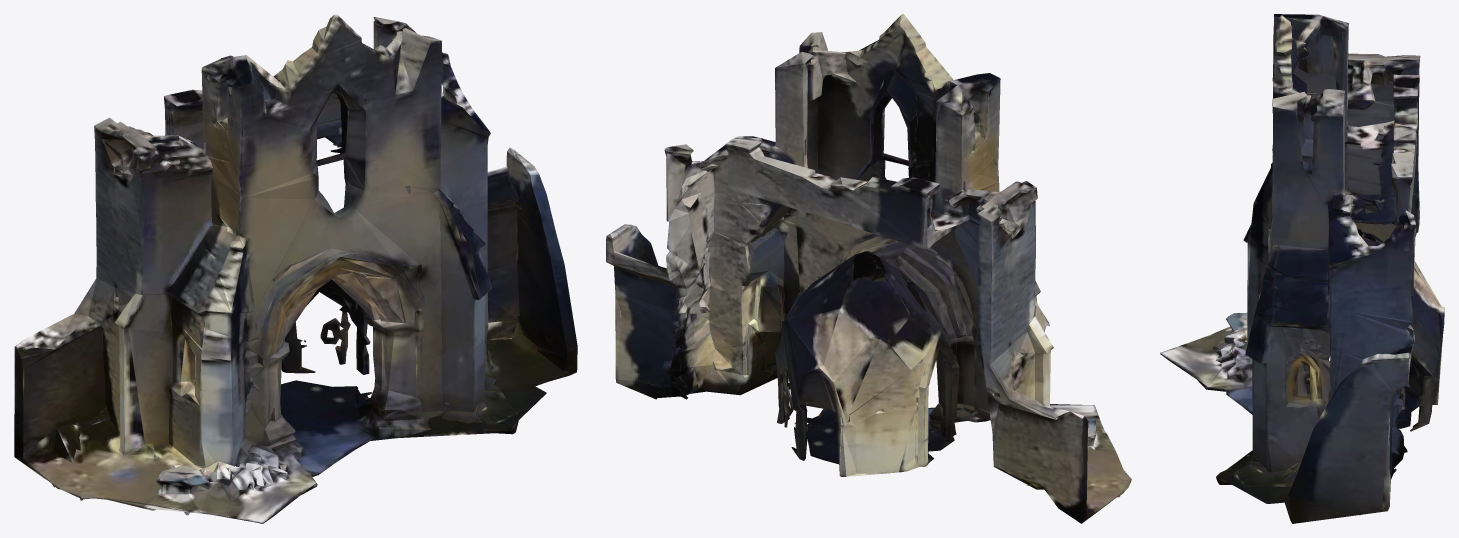
The model's file is war_chapel_ruin_01.glb.
3 views of the same model, side by side, from view 1: azimuth 30°, elevation 25°; view 2: azimuth 150°, elevation 25°; view 3: azimuth 270°, elevation 25° (orthographic). The views are drawn at different scales.
Parts seen in each view (by area): view 1: geometry_0; view 2: geometry_0; view 3: geometry_0.
Part boxes in pixels (bbox=[...]): geometry_0: bbox=[14, 14, 577, 523]; geometry_0: bbox=[606, 14, 1131, 523]; geometry_0: bbox=[1160, 14, 1444, 523].
Bounding box in the file's own units: 0.9989 × 0.8237 × 0.5229.
1 material, 1 textured.
